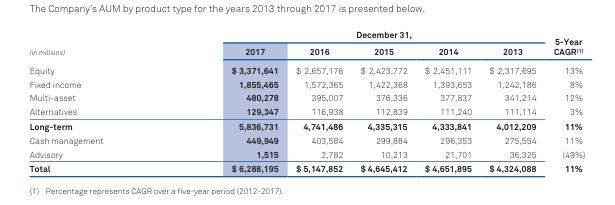table: (28, 28, 584, 173)
table column: (28, 28, 166, 173), (166, 28, 286, 173), (286, 28, 351, 173), (479, 28, 544, 173), (351, 28, 415, 173), (415, 28, 479, 173), (544, 28, 584, 173)
table column header: (28, 28, 584, 60)
table row: (28, 42, 584, 60), (28, 60, 584, 76), (28, 28, 584, 42), (28, 76, 584, 90), (28, 90, 584, 104), (28, 104, 584, 118), (28, 118, 584, 132), (28, 132, 584, 146), (28, 146, 584, 160), (28, 160, 584, 173)
table spanning cell: (166, 28, 544, 42), (28, 28, 166, 60), (544, 28, 584, 60)
